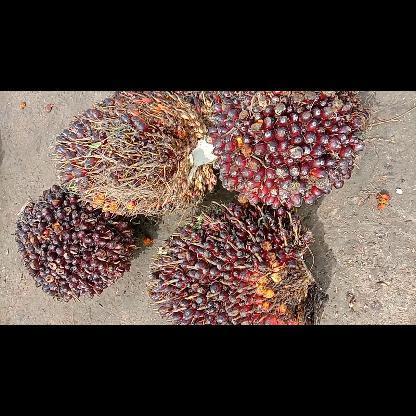Kurang masak: (146, 200, 328, 324), (52, 91, 216, 216), (205, 90, 367, 209), (14, 184, 138, 302)
